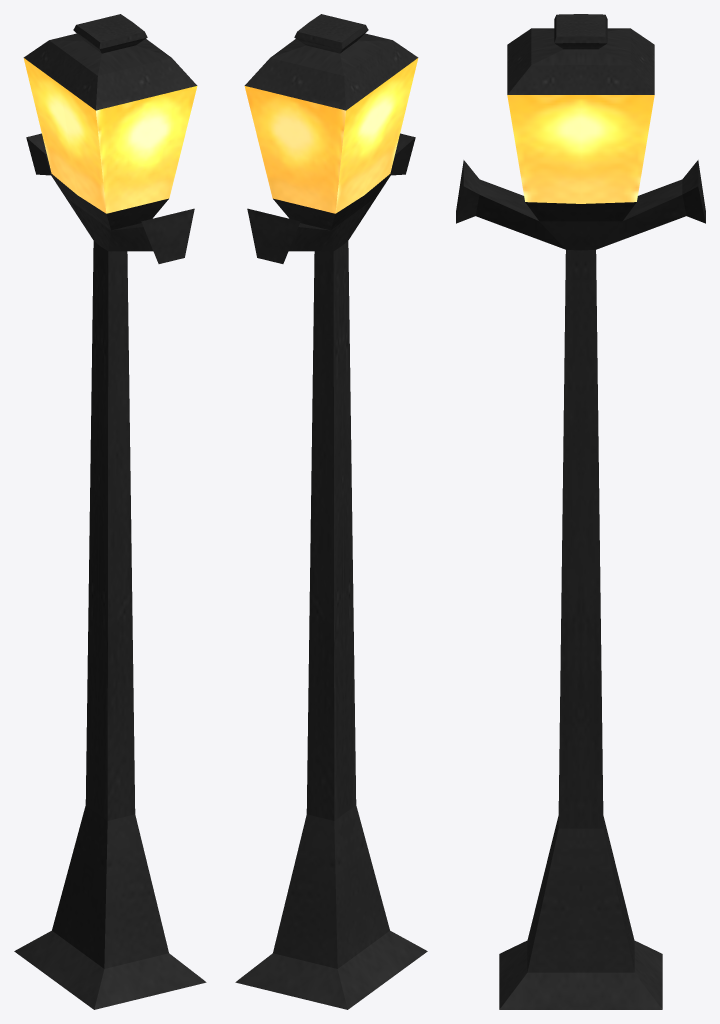
The model's file is LampaPSX.glb.
3 renders of one model, left to right at view 1: azimuth 30°, elevation 25°; view 2: azimuth 150°, elevation 25°; view 3: azimuth 270°, elevation 25°, orthographic.
Parts seen in each view (by area): view 1: OldLamp; view 2: OldLamp; view 3: OldLamp.
Boxes of the visible parts, <box> form: OldLamp: <box>14,14,206,1009</box>; OldLamp: <box>235,14,427,1009</box>; OldLamp: <box>456,14,705,1009</box>.
Bounding box in the file's own units: 0.4423 × 3.52 × 0.8325.
2 materials, 2 textured.
